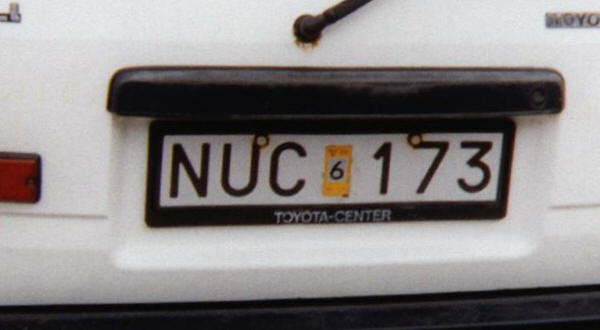license_plate: (160, 126, 507, 212)
